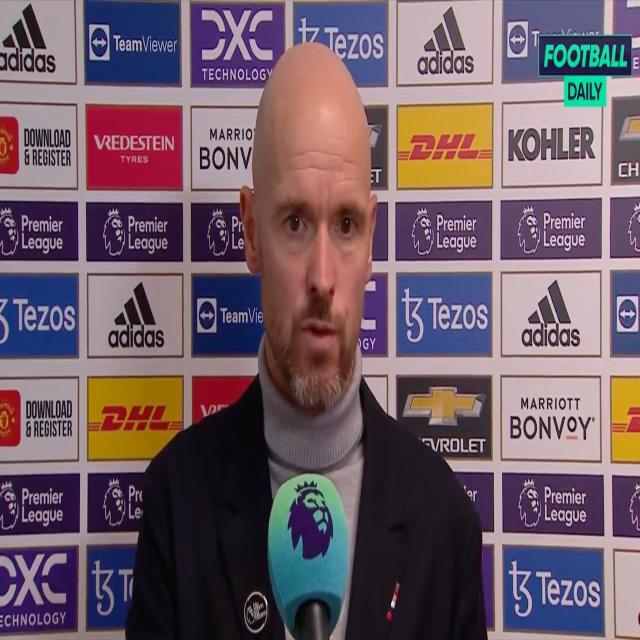Adidas: (522, 277, 580, 350), (417, 3, 475, 76), (0, 0, 56, 74), (108, 281, 165, 352)
Chevrolet: (404, 383, 488, 454)
Kohler: (508, 123, 597, 163)
TeamViewer: (508, 19, 600, 60), (89, 24, 178, 60)
